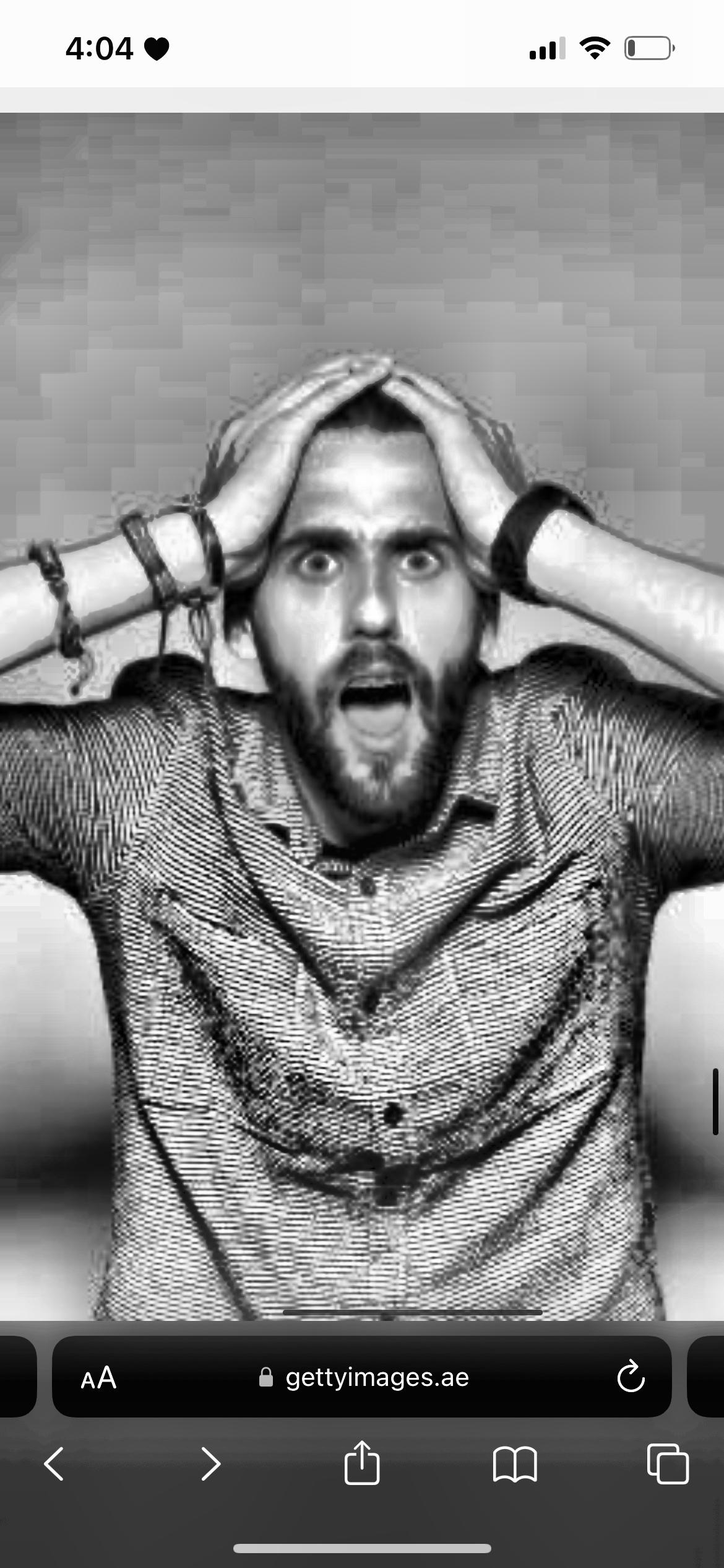surprised: (260, 415, 483, 830)
